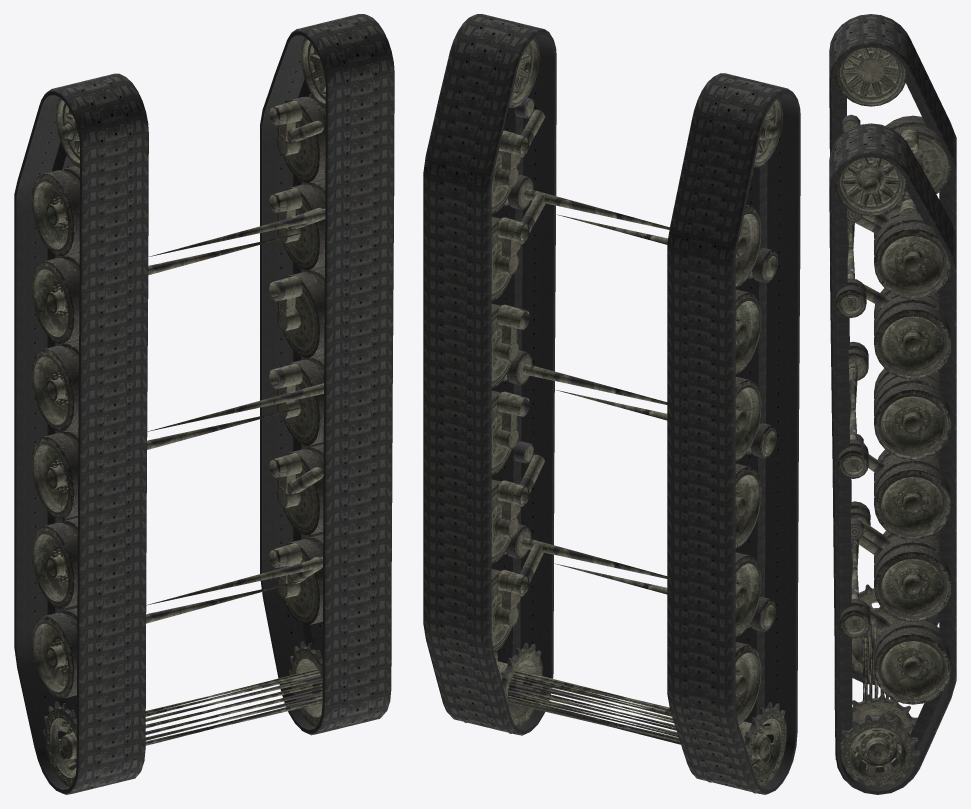
File: Chassis.glb
3 renders of one model, left to right at view 1: azimuth 30°, elevation 25°; view 2: azimuth 150°, elevation 25°; view 3: azimuth 270°, elevation 25°, orthographic. The views are drawn at different scales.
Parts seen in each view (by area): view 1: set_1_group_0, set_0_group_0, set_3_group_0, set_2_group_0; view 2: set_1_group_0, set_0_group_0, set_3_group_0, set_2_group_0; view 3: set_3_group_0, set_0_group_0, set_2_group_0, set_1_group_0.
Part boxes in pixels (x1,y1,x2,y2): set_1_group_0: (14, 73, 148, 794); set_0_group_0: (260, 14, 394, 735); set_3_group_0: (146, 37, 382, 731); set_2_group_0: (32, 97, 307, 791); set_1_group_0: (667, 73, 800, 794); set_0_group_0: (423, 14, 556, 735); set_3_group_0: (457, 37, 669, 733); set_2_group_0: (553, 97, 786, 793); set_3_group_0: (835, 157, 951, 787); set_0_group_0: (829, 123, 956, 794); set_2_group_0: (835, 47, 951, 697); set_1_group_0: (829, 14, 956, 684).
Bounding box in the file's own units: 3.13 × 6.73 × 1.21.
Materials: 4 (4 with a texture image).
